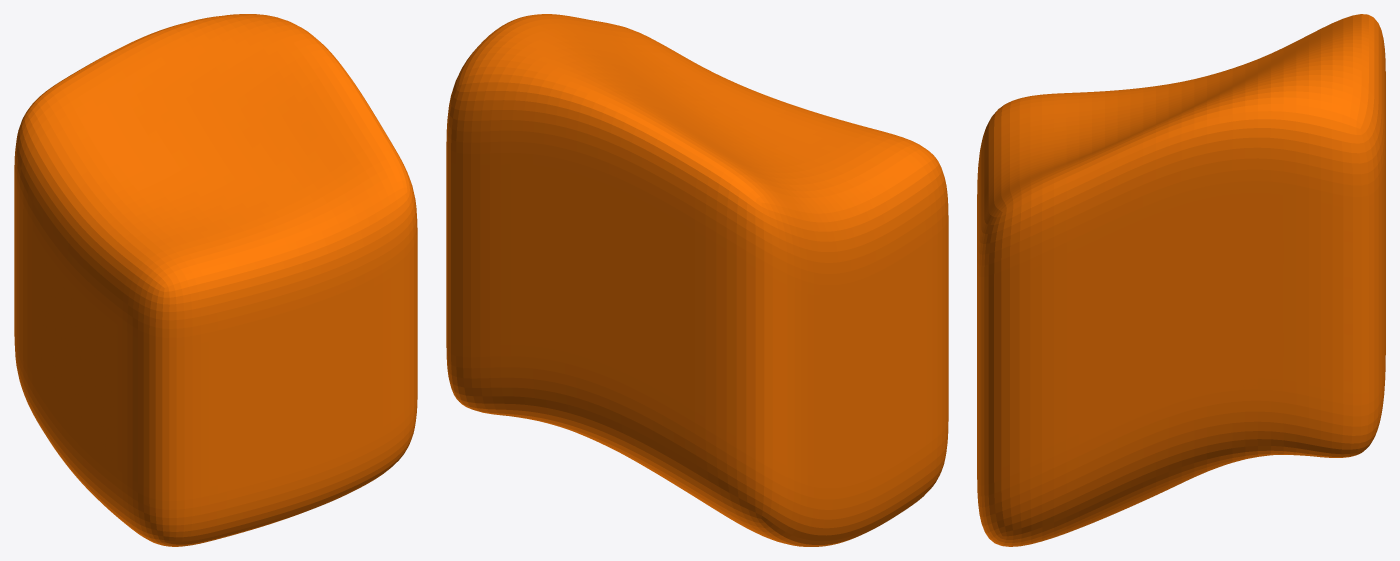
The picture shows the model from 3 angles, left to right: view 1: azimuth 30°, elevation 25°; view 2: azimuth 150°, elevation 25°; view 3: azimuth 270°, elevation 25°; orthographic projection. The views are drawn at different scales.
Parts seen in each view (by area): view 1: smooth_1_base.033; view 2: smooth_1_base.033; view 3: smooth_1_base.033.
Boxes of the visible parts, <box> form: smooth_1_base.033: <box>14,14,417,546</box>; smooth_1_base.033: <box>446,14,948,546</box>; smooth_1_base.033: <box>977,14,1385,546</box>.
Bounding box in the file's own units: 60 × 82.11 × 60.
